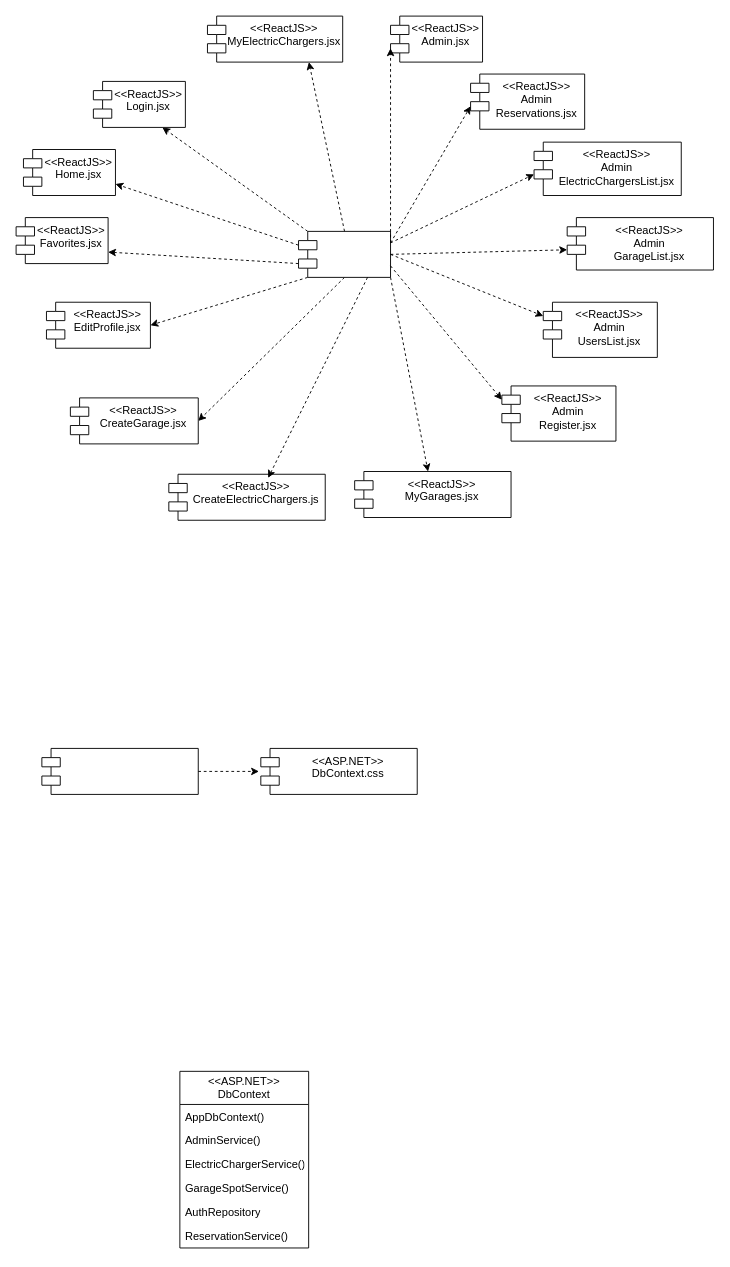
Some shapes in this 730 by 1267 pixel diagram are drawn without their labels. The centre of each missing label's shape, as x and y in pixels:
<<ASP.NET>> DataServices: point 119,771
<<ReactJS>> App.js: point 344,253
